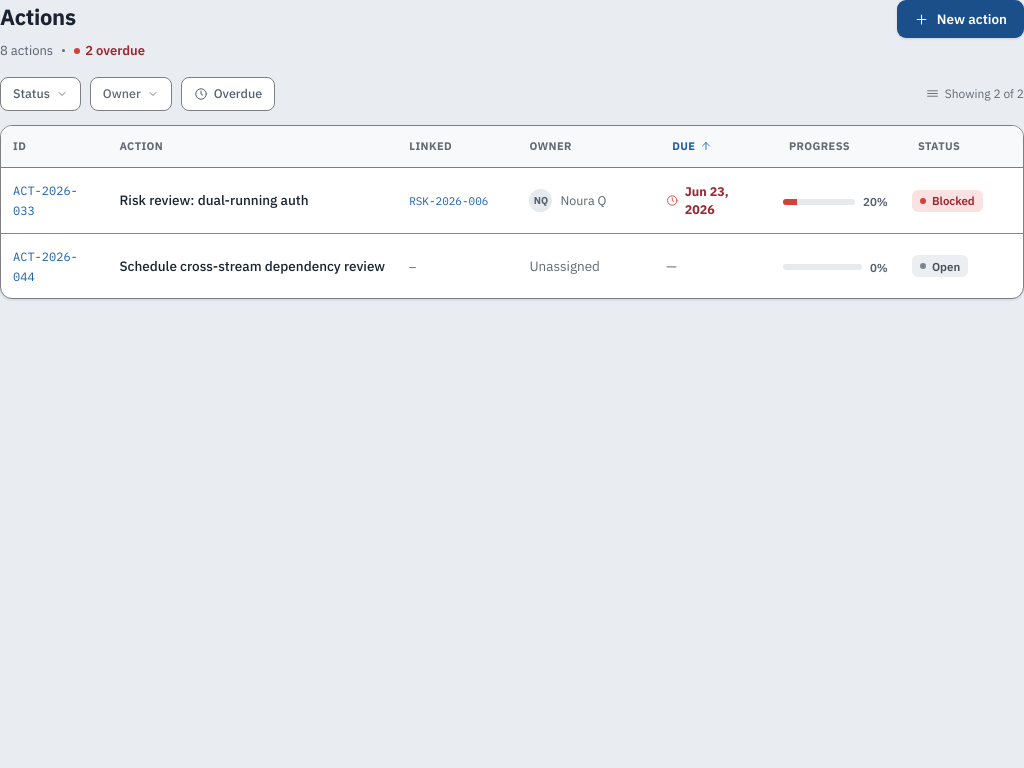
ActionsRegister (P8b) › opens the source chooser from the New action CTA
Step 1. Click the button "New action" → (960, 19), box [897, 0, 1023, 38]
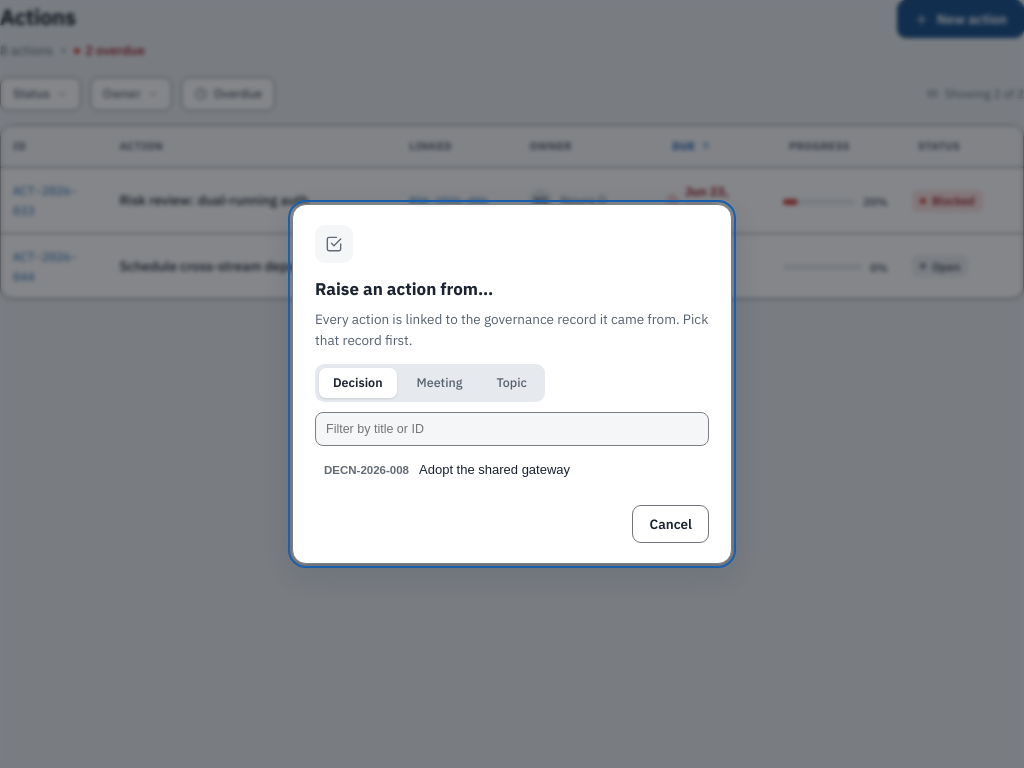
Now the dialog is shown, box [292, 204, 732, 564]
Now the heading "Raise an action from…" is shown, box [315, 278, 493, 300]
